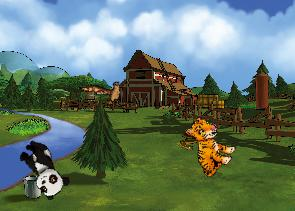eagle: (78, 65, 136, 118)
panda: (12, 135, 73, 202)
tiger: (172, 113, 242, 181)
